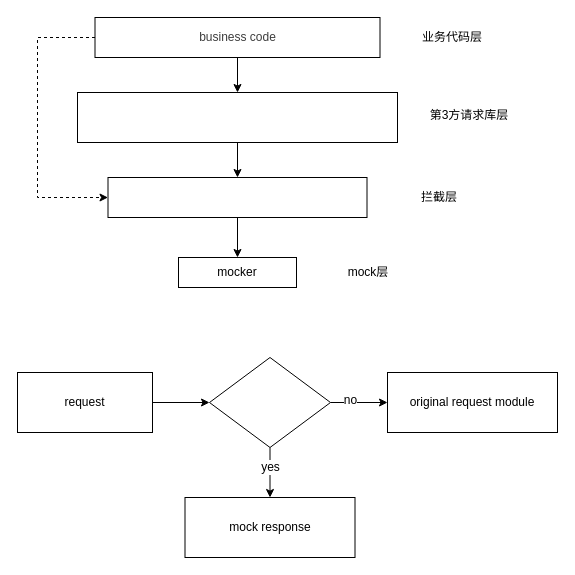
The diagram is 575 pixels wide and 575 high, and some of its shapes have lost their labels. Here are the shapes that lost their labels. From the top down, the box of each, then its label:
(76, 92, 398, 142): axios, jquery, superagent,ky, node-fetch, got, request ...
(107, 176, 367, 218): inteceptor: xhr, fetch, wx.request, http, https
(208, 356, 330, 448): mock?
